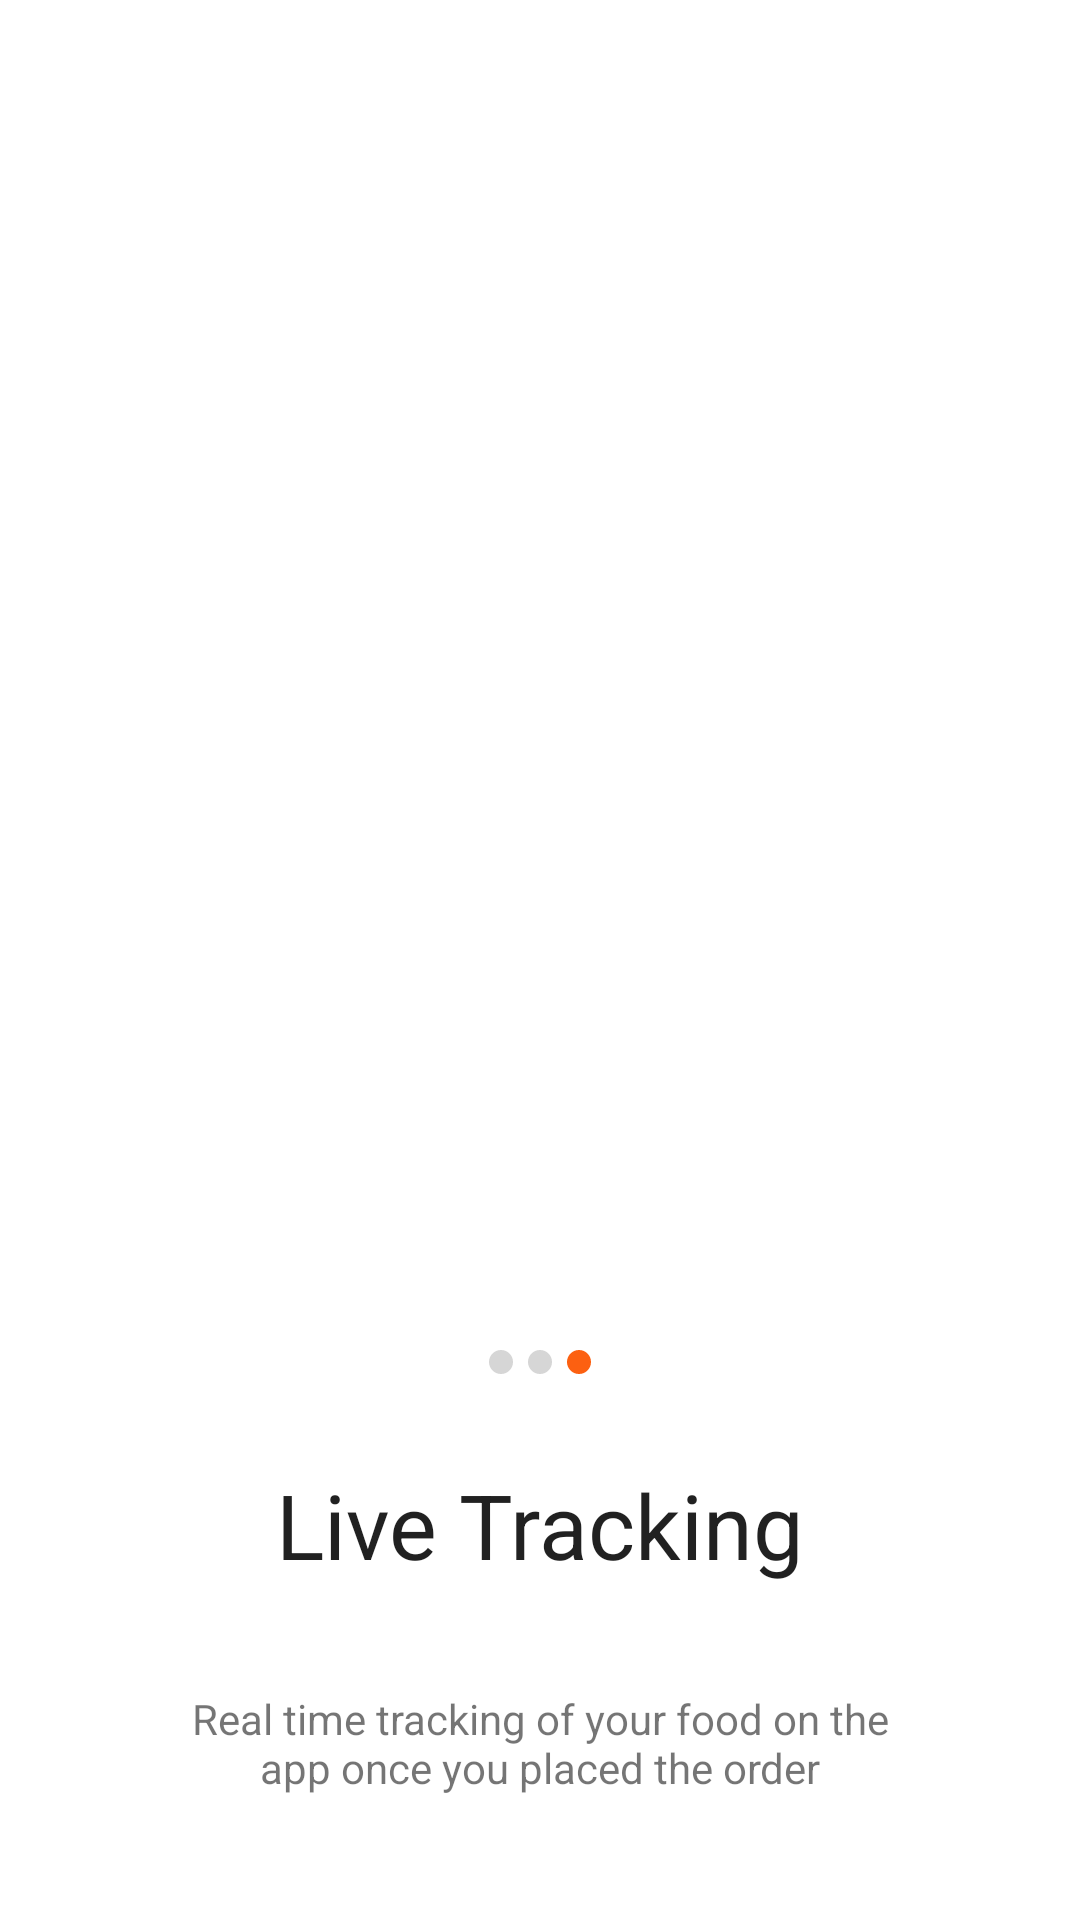

Named icons in this screenshot (1080w x 1920h) and their centers, point (x, y):
right slider indicators: point (540, 1362)
